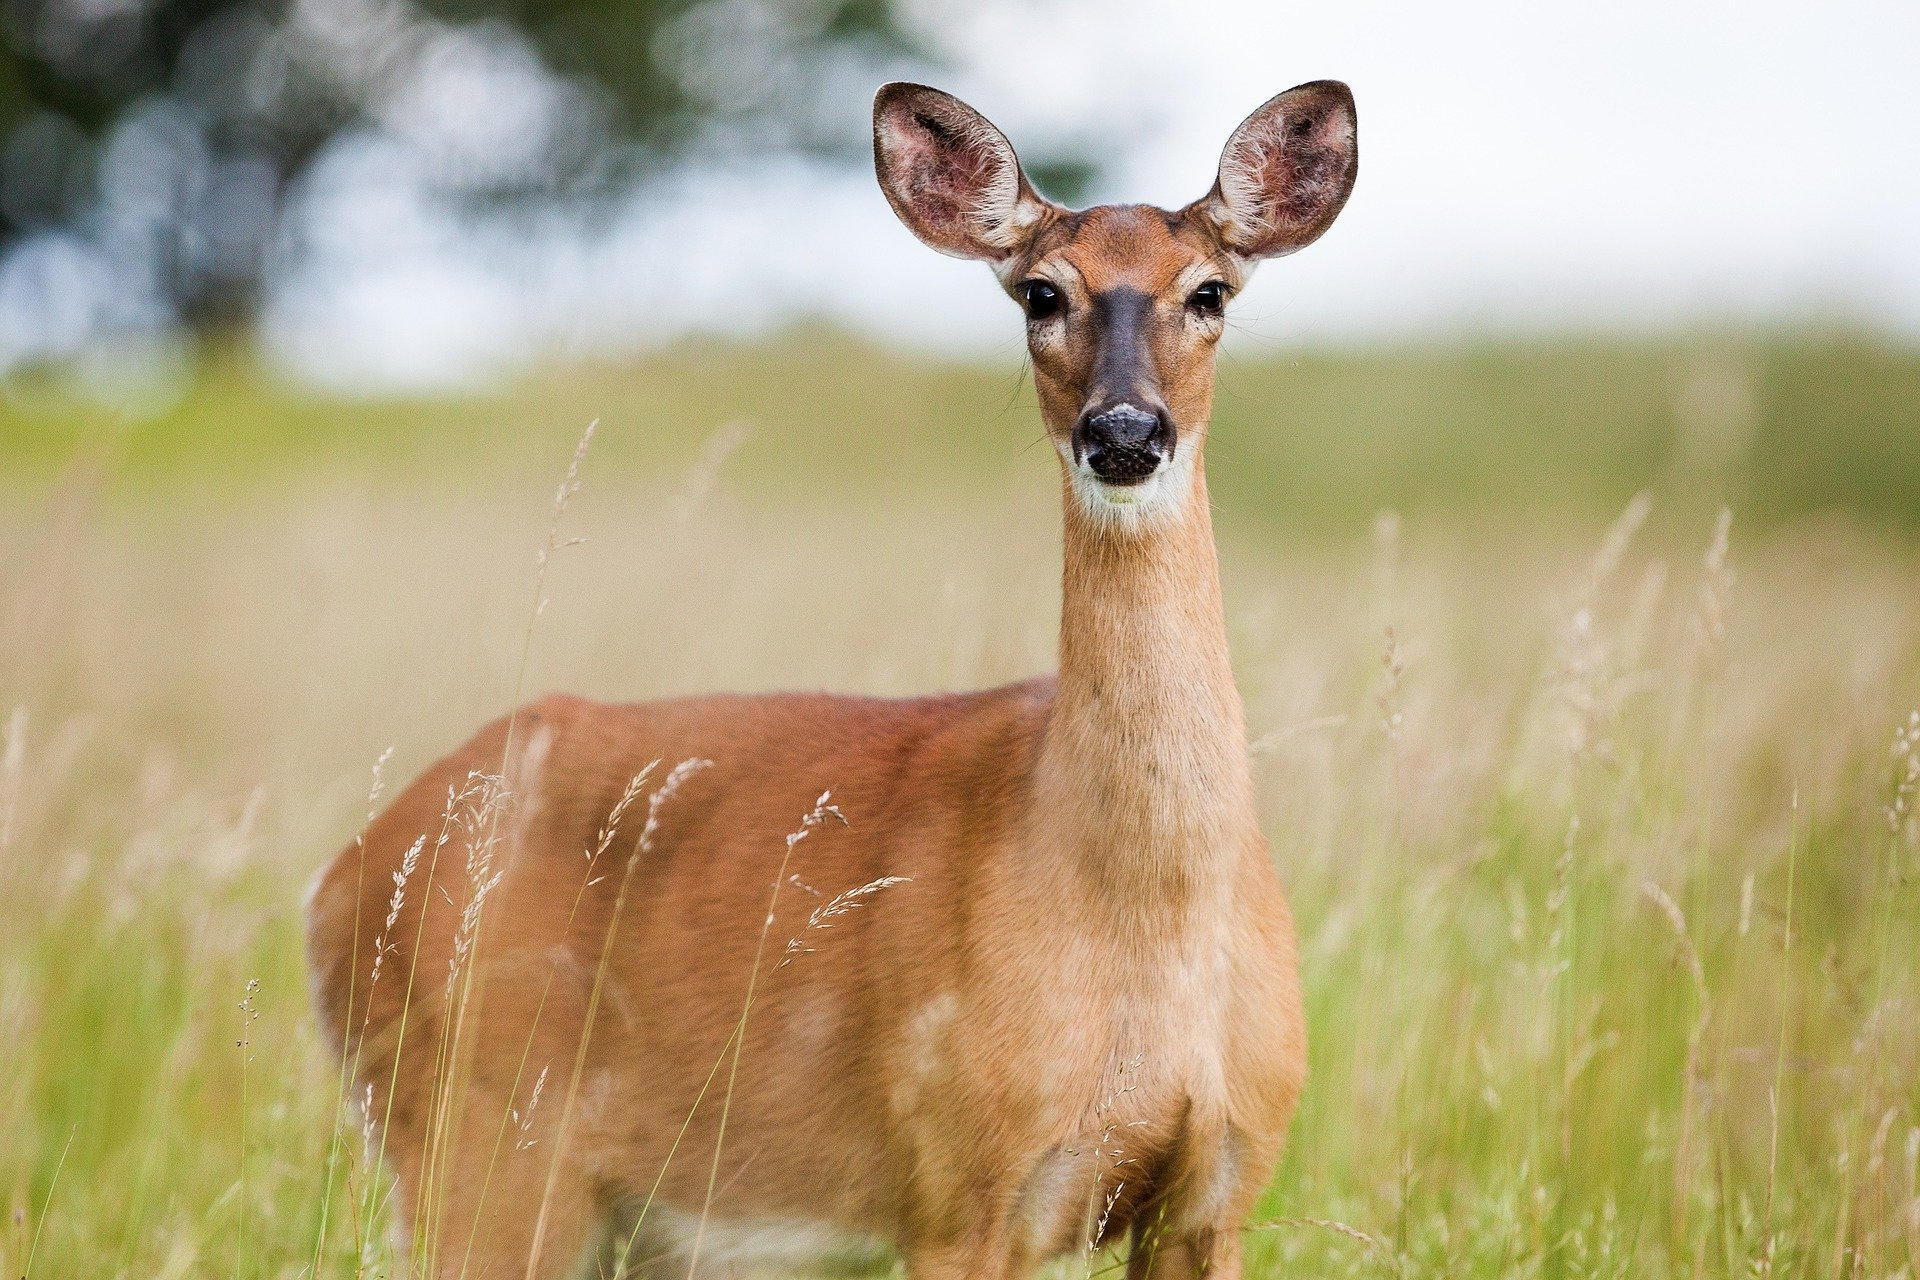Deer: (330, 89, 1371, 1280)
